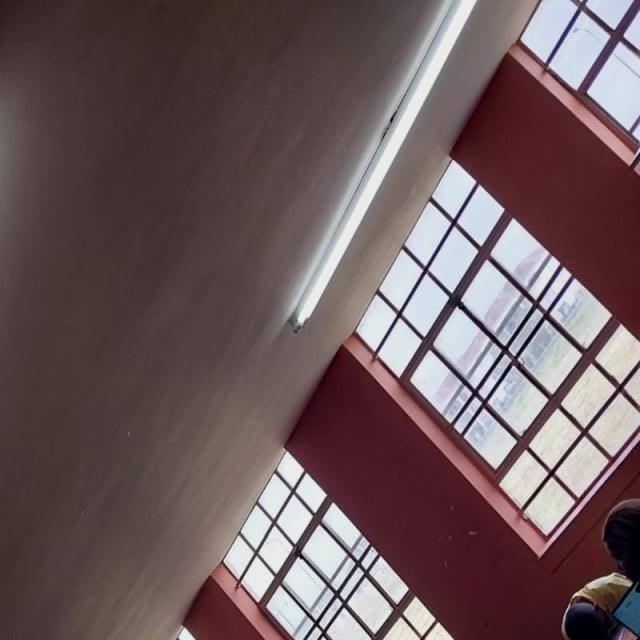fluorescent tube: (262, 0, 492, 382), (0, 89, 1, 640)
